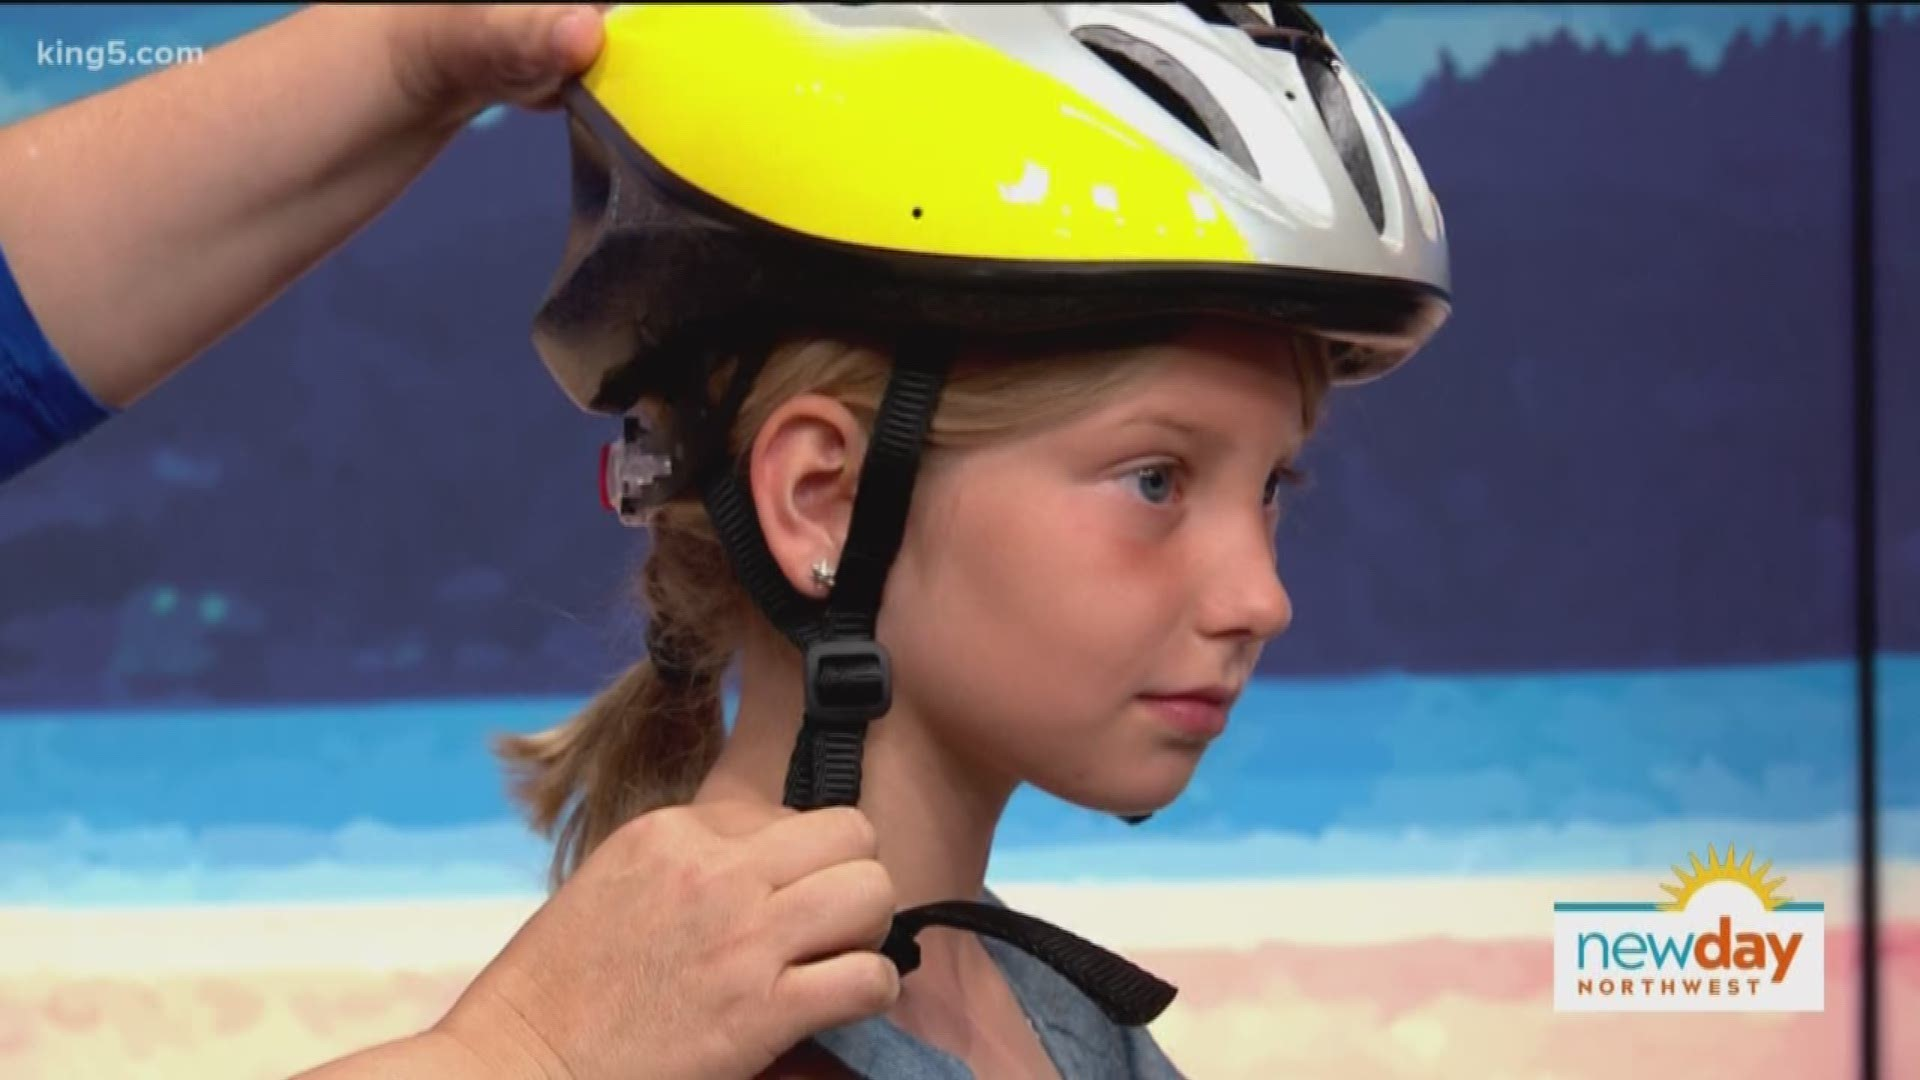helmet: (527, 1, 1453, 814)
